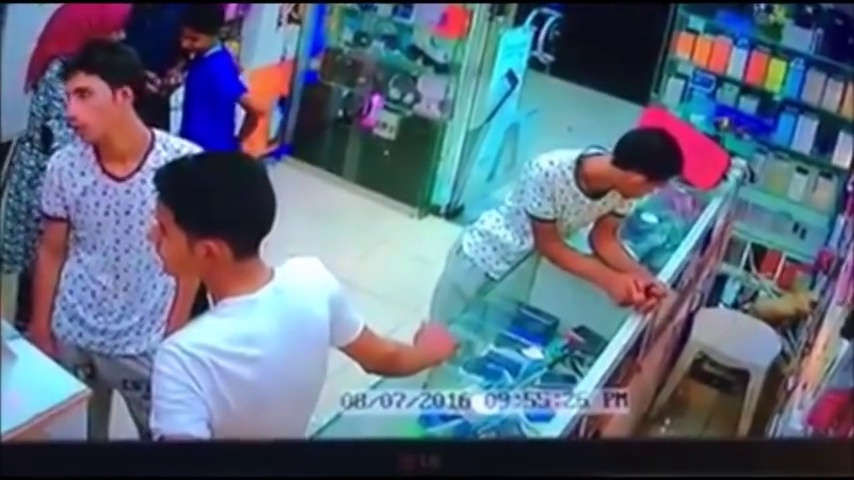face: (141, 199, 218, 285), (57, 74, 110, 139), (173, 18, 210, 62)
